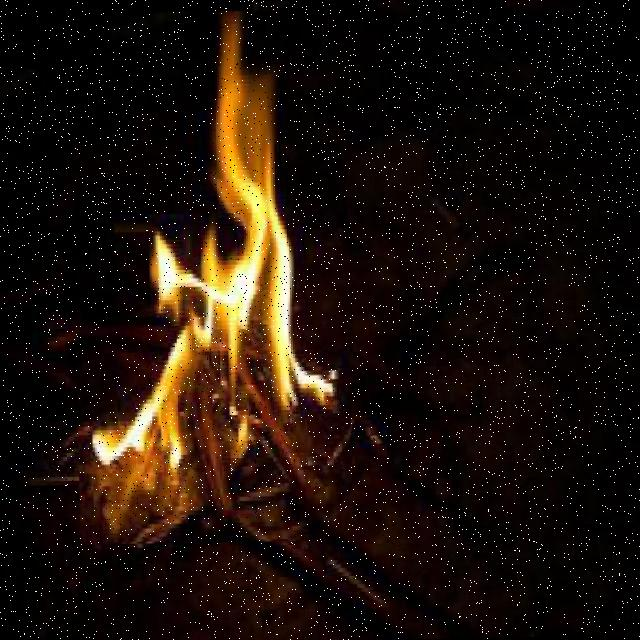fire: (70, 8, 352, 544)
